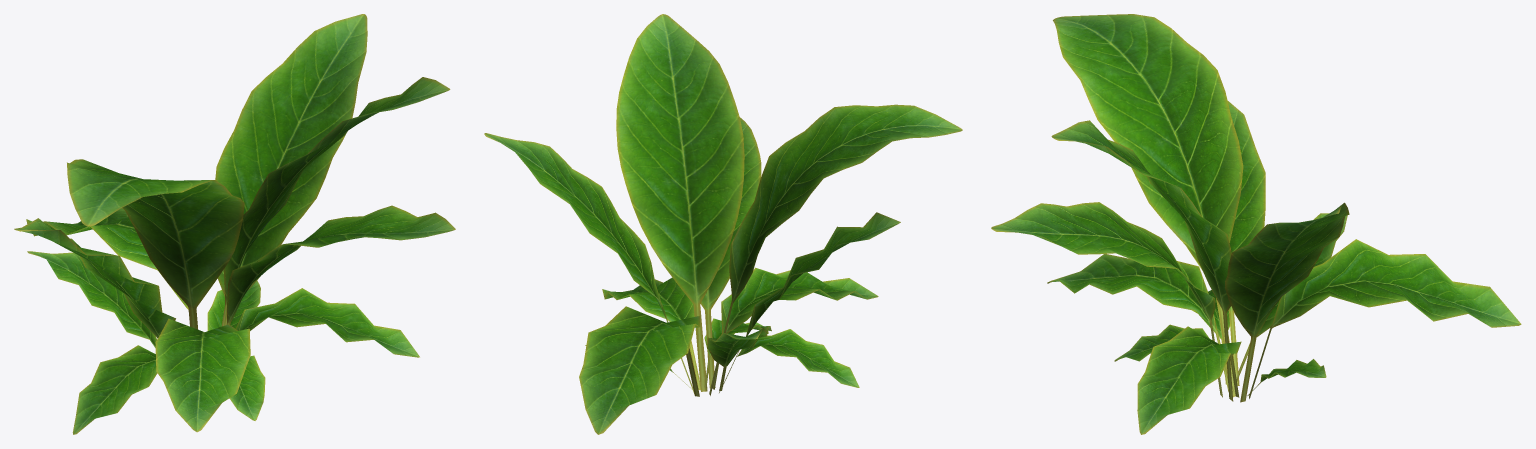
Rendered from Plant.glb.
The picture shows the model from 3 angles, left to right: view 1: azimuth 30°, elevation 25°; view 2: azimuth 150°, elevation 25°; view 3: azimuth 270°, elevation 25°; orthographic projection. The views are drawn at different scales.
Parts seen in each view (by area): view 1: CryoOrbPlant.008; view 2: CryoOrbPlant.008; view 3: CryoOrbPlant.008.
Boxes of the visible parts, x1,y1,x2,y2 form: CryoOrbPlant.008: (14,14,455,434); CryoOrbPlant.008: (484,14,962,434); CryoOrbPlant.008: (991,14,1521,434).
Size of the model in its own units: 0.2906 by 0.2265 by 0.3309.
Materials: 1 (1 with a texture image).
